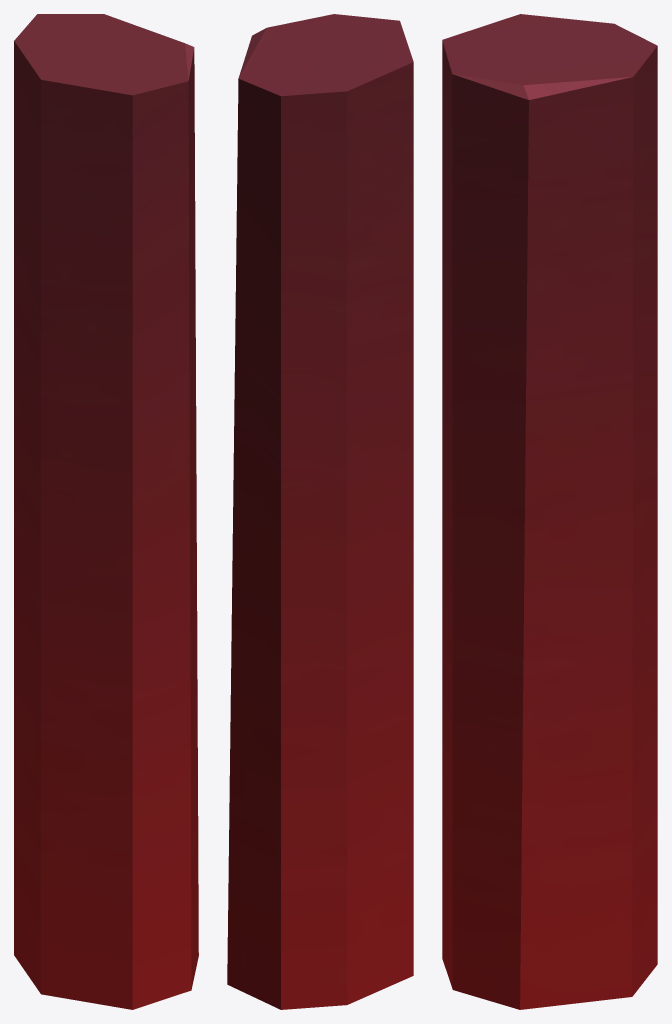
The model's file is rock_001.fbx.
3 renders of one model, left to right at view 1: azimuth 30°, elevation 25°; view 2: azimuth 150°, elevation 25°; view 3: azimuth 270°, elevation 25°, orthographic.
Visible parts, largest first — view 1: rock_001; view 2: rock_001; view 3: rock_001.
Boxes of the visible parts, <box> form: rock_001: <box>14,14,198,1009</box>; rock_001: <box>227,14,413,1009</box>; rock_001: <box>442,14,657,1009</box>.
Size of the model in its own units: 43.4 by 241 by 51.15.
